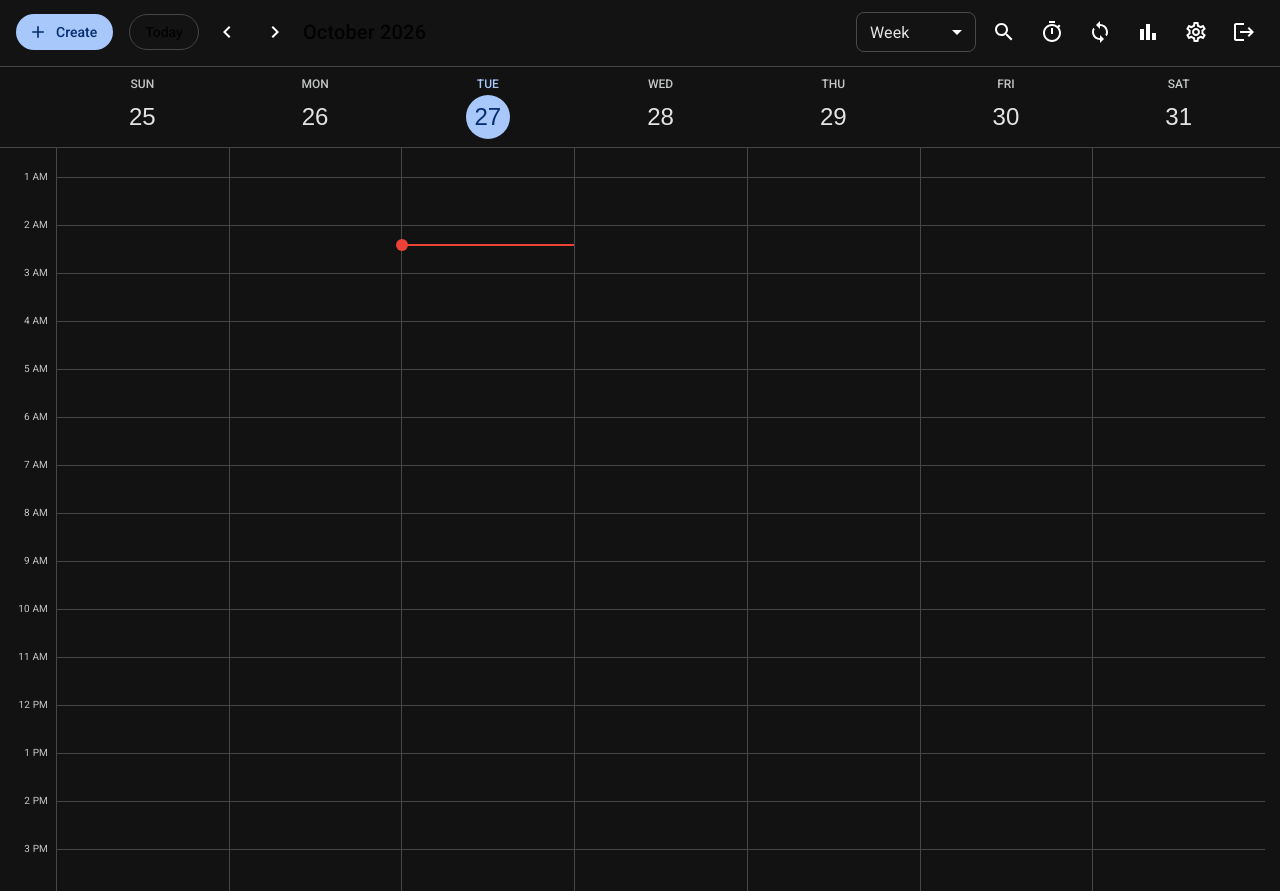
Test: App › signs out
This screenshot has width=1280, height=891.
(page scrolled)
Click the button named "Sign out". click: (1244, 32)
box: [1224,12,1264,52]
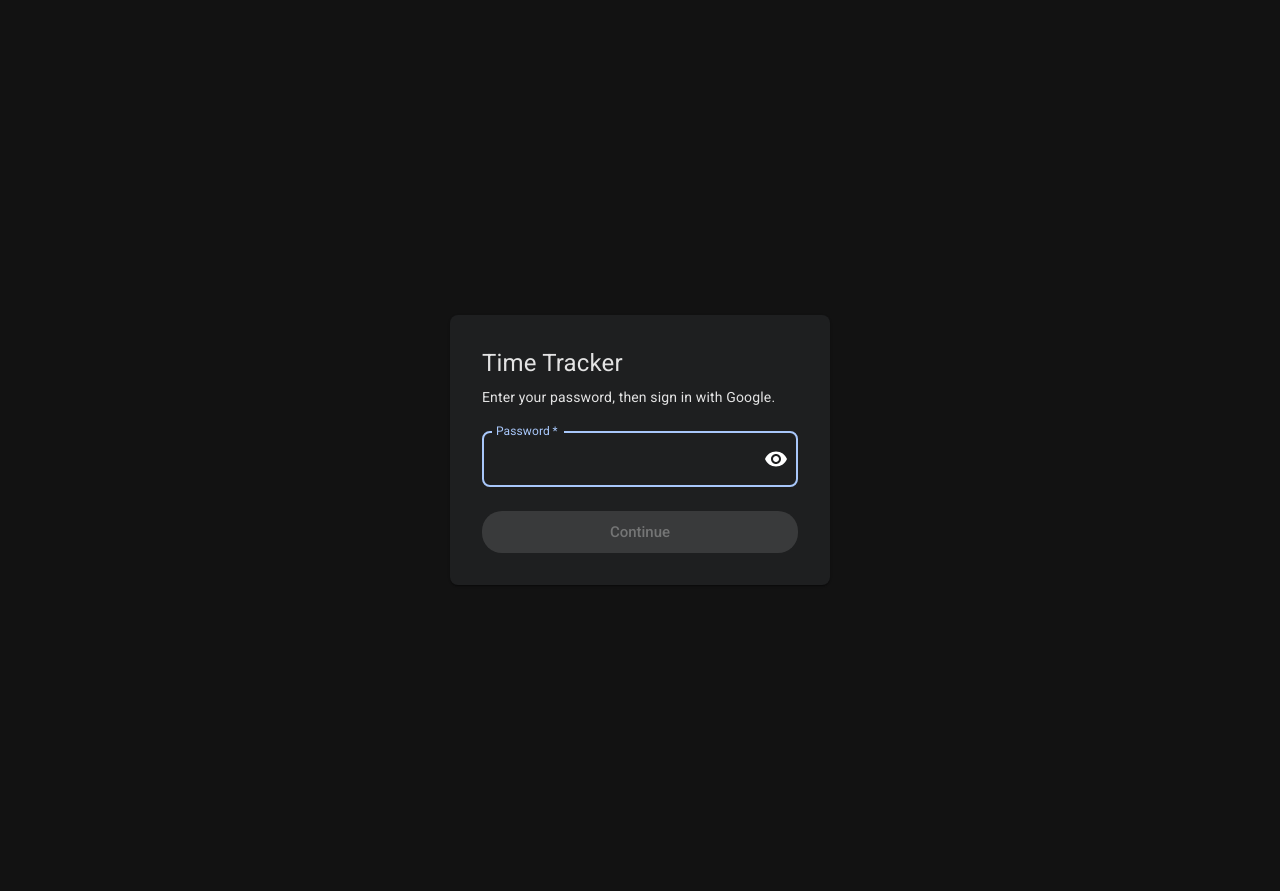
Check: the password field labelled "Password *" is shown, box [482,431,748,487]
